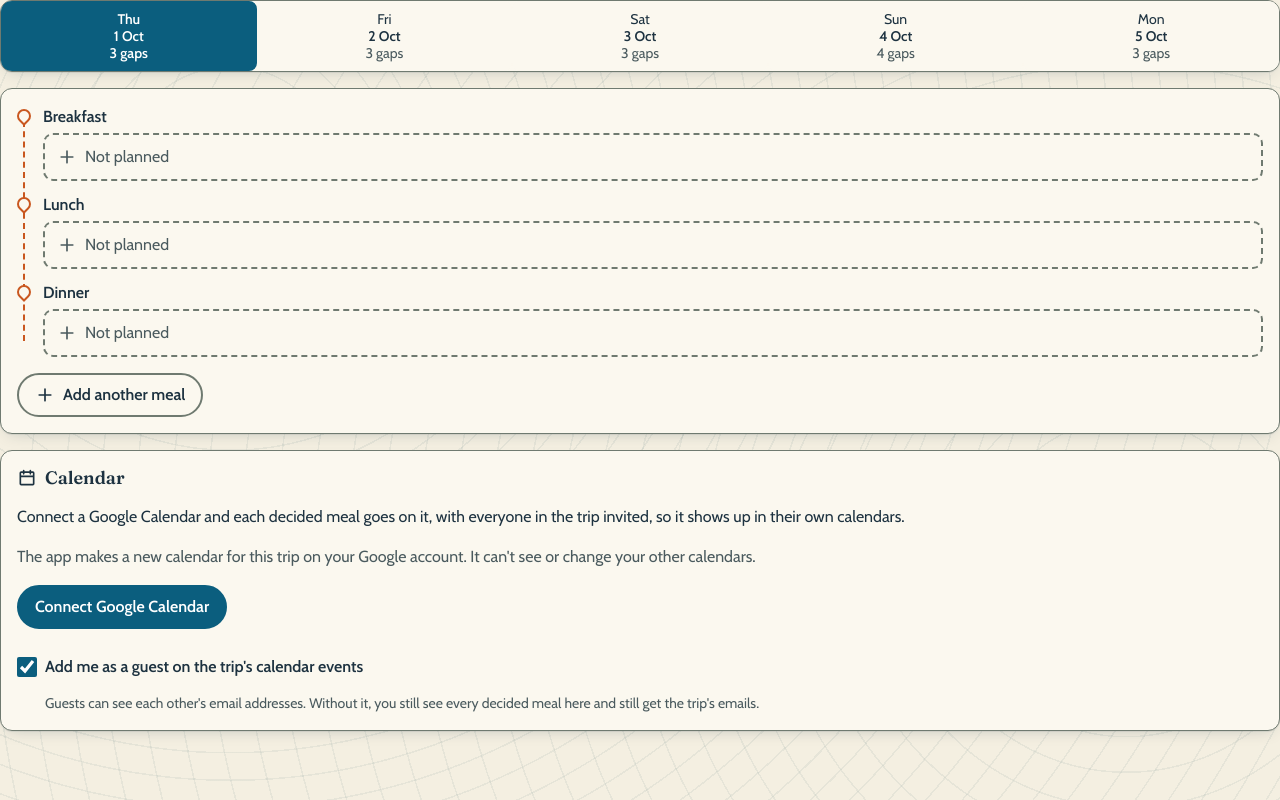
Test case: the day tabs › clicking a day shows that day's trail
The width and height of the screenshot is (1280, 800).
Click the tab "Sun 4 Oct 4 gaps".
click(896, 36)  # box [768,1,1023,71]
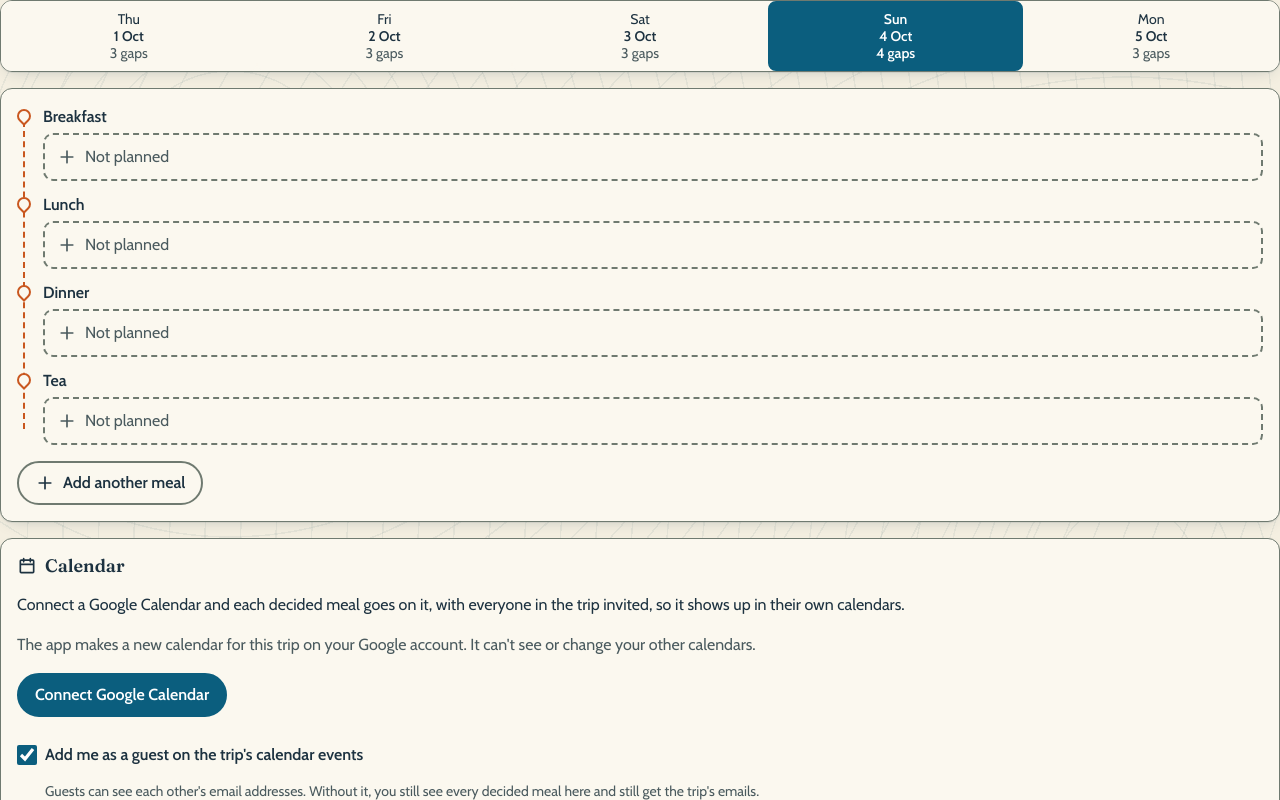
Now the button "Tea Not planned" is shown, box [43,369,1263,445]
